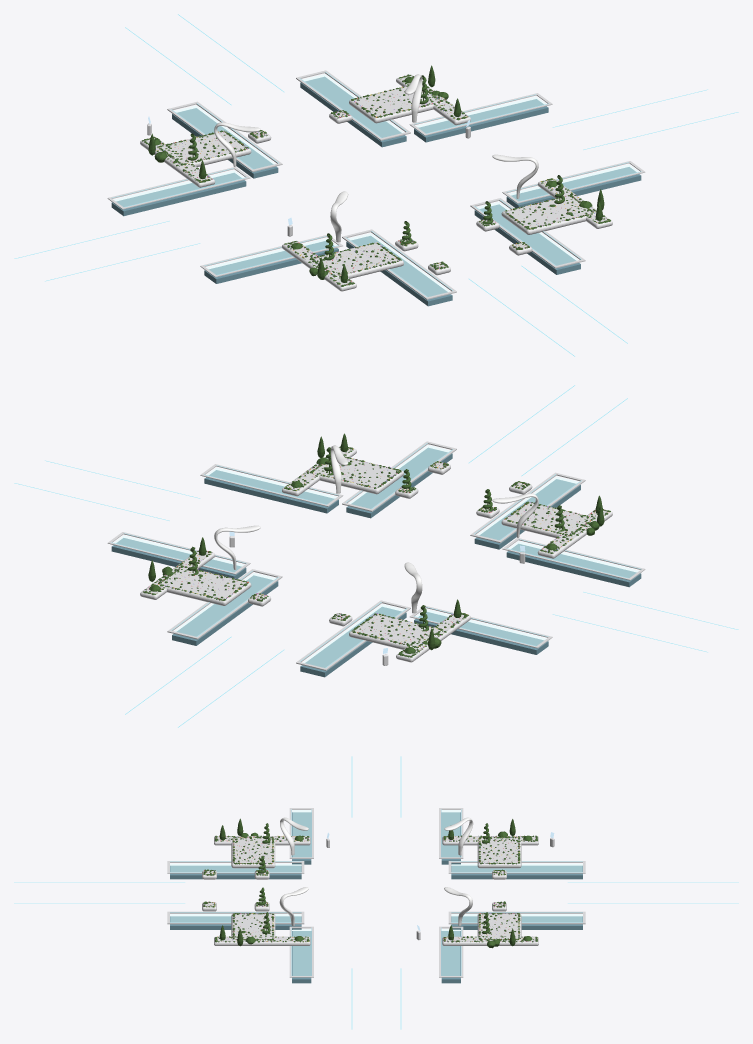
Rendered from plaza.glb.
3 views of the same model, one above another, from view 1: azimuth 30°, elevation 25°; view 2: azimuth 150°, elevation 25°; view 3: azimuth 270°, elevation 25° (orthographic). The views are drawn at different scales.
Parts seen in each view (by area): view 1: Parterre_13_-14_mur, CanalY2_cuve, CanalX1_cuve, CanalX2_cuve, Parterre_-13_-14_mur, CanalY4_cuve, Parterre_13_14_mur, Parterre_-13_14_mur, CanalX3_cuve, CanalX4_cuve, CanalY3_cuve, CanalY1_cuve (+13 smaller); view 2: Parterre_13_14_mur, CanalY2_cuve, CanalX4_cuve, Parterre_-13_14_mur, CanalX3_cuve, CanalY4_cuve, Parterre_13_-14_mur, Parterre_-13_-14_mur, CanalX1_cuve, CanalX2_cuve, CanalY1_cuve, CanalY3_cuve (+14 smaller); view 3: CanalY1_cuve, CanalY3_cuve, Parterre_-13_14_mur, Parterre_-13_-14_mur, CanalY2_cuve, CanalY4_cuve, Parterre_13_14_mur, Parterre_13_-14_mur, CanalX4_cuve, CanalY1_eau, CanalX2_cuve, CanalY3_eau (+10 smaller).
Boxes of the visible parts, x1,y1,x2,y2 form: Parterre_13_-14_mur: [501, 196, 595, 234]; CanalY2_cuve: [300, 76, 406, 147]; CanalX1_cuve: [111, 173, 246, 216]; CanalX2_cuve: [414, 99, 548, 142]; Parterre_-13_-14_mur: [309, 242, 403, 278]; CanalY4_cuve: [474, 204, 580, 274]; Parterre_13_14_mur: [349, 86, 443, 123]; Parterre_-13_14_mur: [156, 130, 251, 166]; CanalX3_cuve: [204, 241, 338, 283]; CanalX4_cuve: [506, 167, 641, 208]; CanalY3_cuve: [346, 236, 452, 306]; CanalY1_cuve: [172, 108, 278, 178]; Parterre_13_14_mur: [156, 567, 251, 605]; CanalY2_cuve: [172, 575, 278, 645]; CanalX4_cuve: [204, 470, 338, 513]; Parterre_-13_14_mur: [349, 613, 443, 649]; CanalX3_cuve: [506, 544, 641, 587]; CanalY4_cuve: [346, 447, 452, 518]; Parterre_13_-14_mur: [309, 457, 403, 494]; Parterre_-13_-14_mur: [501, 501, 596, 537]; CanalX1_cuve: [414, 612, 548, 654]; CanalX2_cuve: [111, 538, 246, 579]; CanalY1_cuve: [300, 607, 406, 677]; CanalY3_cuve: [474, 479, 580, 549]; CanalY1_cuve: [451, 865, 582, 879]; CanalY3_cuve: [170, 865, 301, 879]; Parterre_-13_14_mur: [477, 837, 521, 868]; Parterre_-13_-14_mur: [231, 837, 275, 868]; CanalY2_cuve: [451, 916, 582, 929]; CanalY4_cuve: [170, 916, 301, 929]; Parterre_13_14_mur: [477, 913, 521, 940]; Parterre_13_-14_mur: [231, 913, 275, 940]; CanalX4_cuve: [292, 931, 311, 983]; CanalY1_eau: [452, 864, 582, 871]; CanalX2_cuve: [441, 931, 460, 983]; CanalY3_eau: [170, 864, 300, 871].
Bounding box in the file's own units: 73.5 × 5.45 × 82.5.
